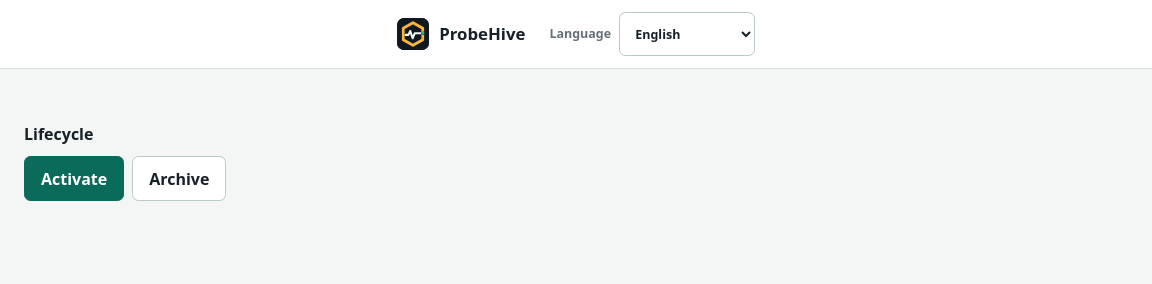
activates a paused Monitor
Click the button "Activate".
click(74, 179)  # box [24,156,124,201]
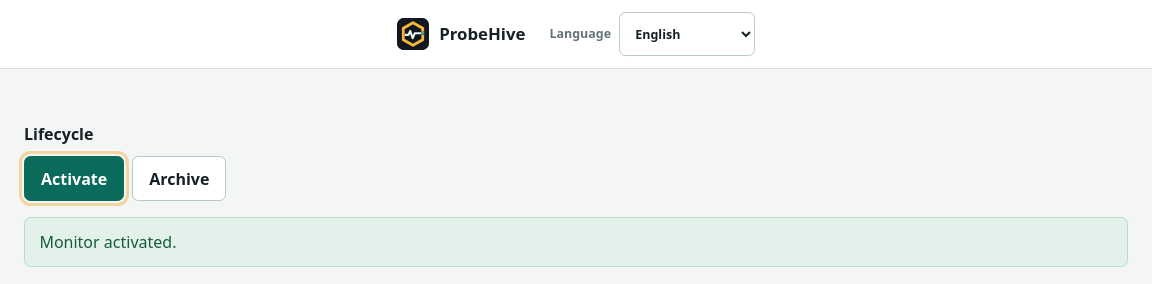
Expected: the text "Monitor activated." is shown, [24,217,1128,267]
